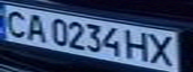0: (45, 16, 69, 47)
2: (63, 19, 87, 52)
3: (81, 21, 106, 55)
4: (103, 25, 124, 57)
A: (21, 11, 51, 43)
C: (0, 7, 30, 38)
H: (124, 28, 151, 62)
X: (145, 31, 178, 69)
